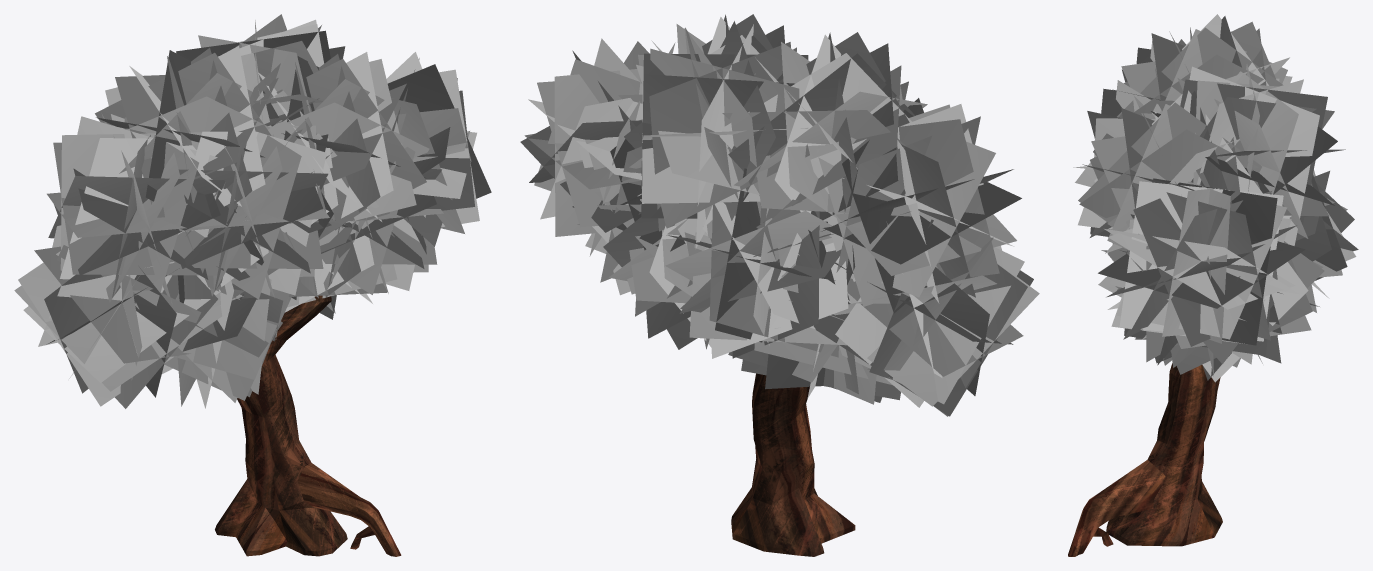
Rendered from town tree.fbx.
3 renders of one model, left to right at view 1: azimuth 30°, elevation 25°; view 2: azimuth 150°, elevation 25°; view 3: azimuth 270°, elevation 25°, orthographic. The views are drawn at different scales.
Parts seen in each view (by area): view 1: leaves, tree; view 2: leaves, tree; view 3: leaves, tree.
Part boxes in pixels (x1,y1,x2,y2): leaves: [14, 14, 491, 408]; tree: [215, 295, 401, 556]; leaves: [520, 14, 1039, 416]; tree: [731, 373, 855, 556]; leaves: [1073, 14, 1358, 382]; tree: [1068, 363, 1222, 556].
Bounding box in the file's own units: 680 × 702 × 391.
